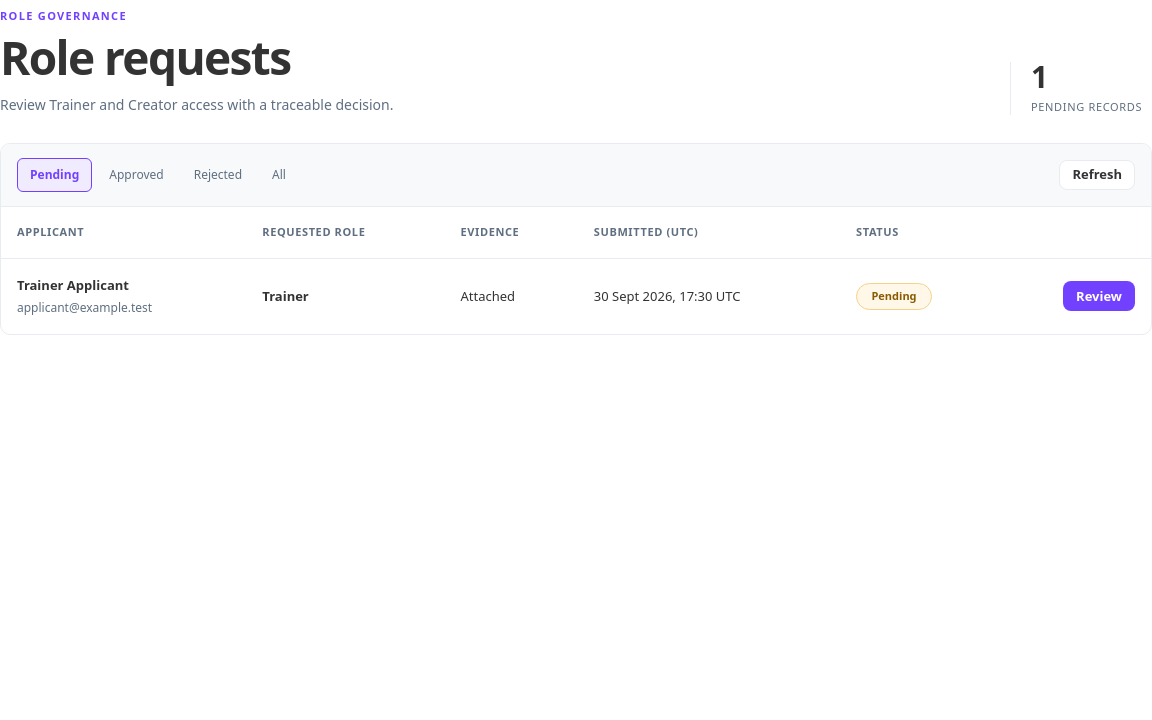
awaits a role download, prevents repeat requests and reports only browser download startup
Click the button "Review" at (1099, 296), box [1063, 281, 1135, 311]
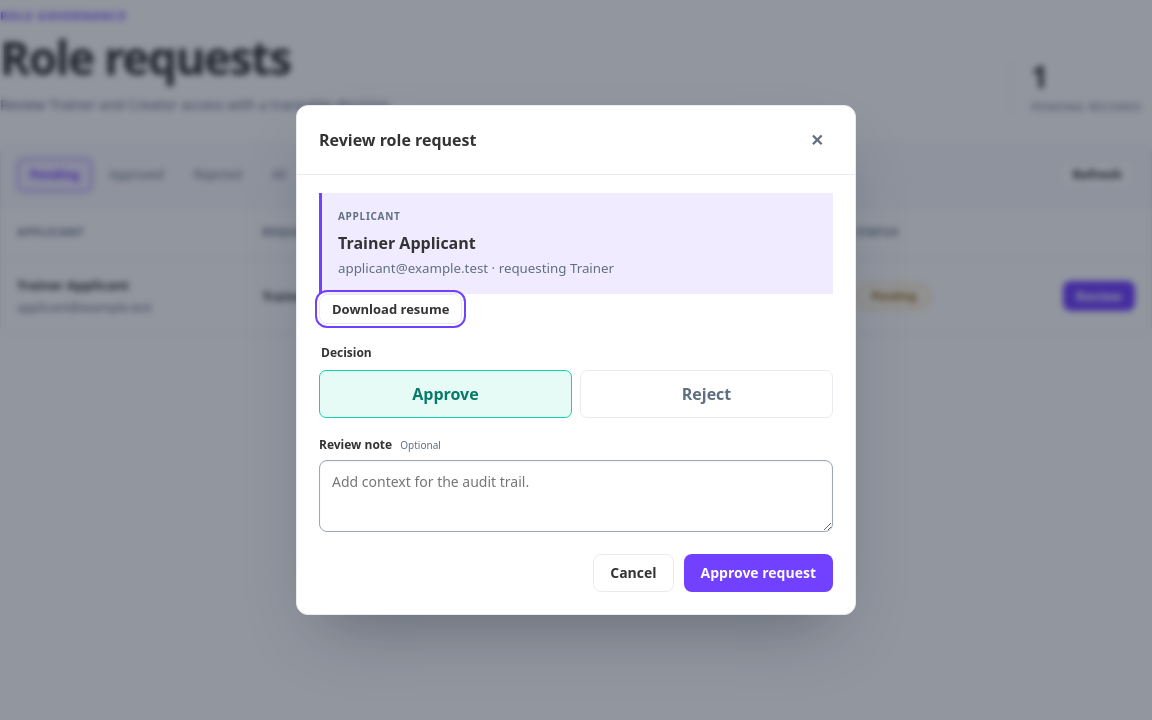
Click the button "Download resume" at (391, 310), box [319, 294, 462, 324]
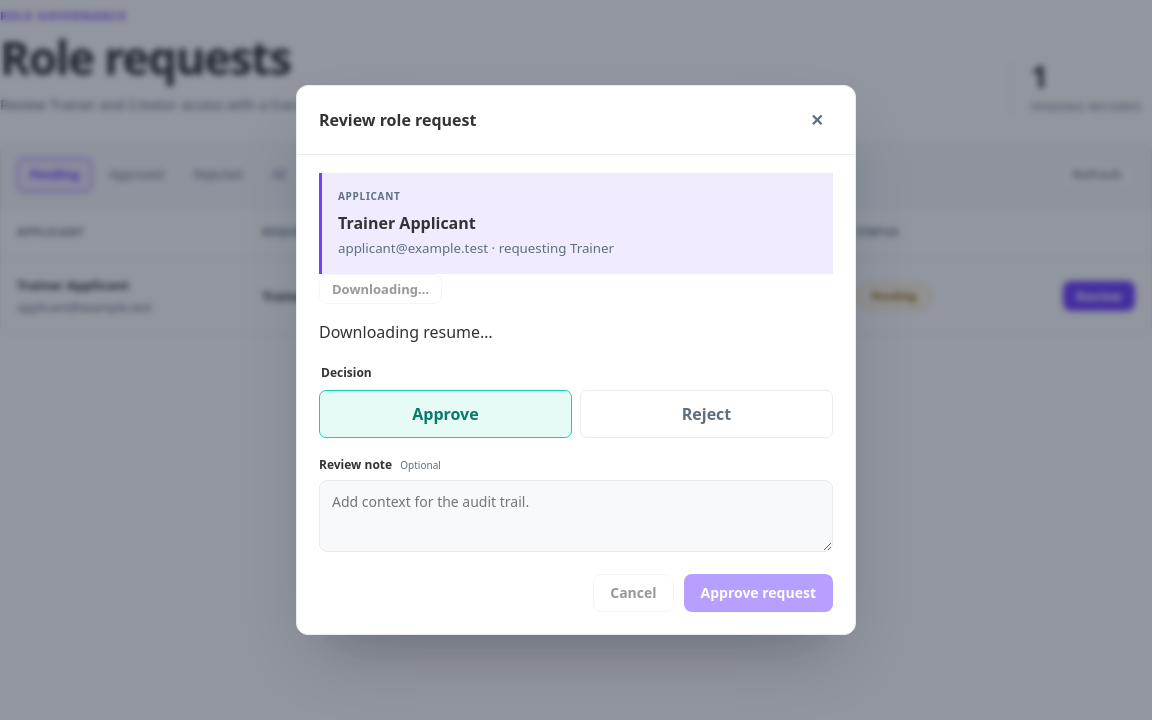
Click the button named "Download resume" at (380, 290), box [319, 274, 442, 304]
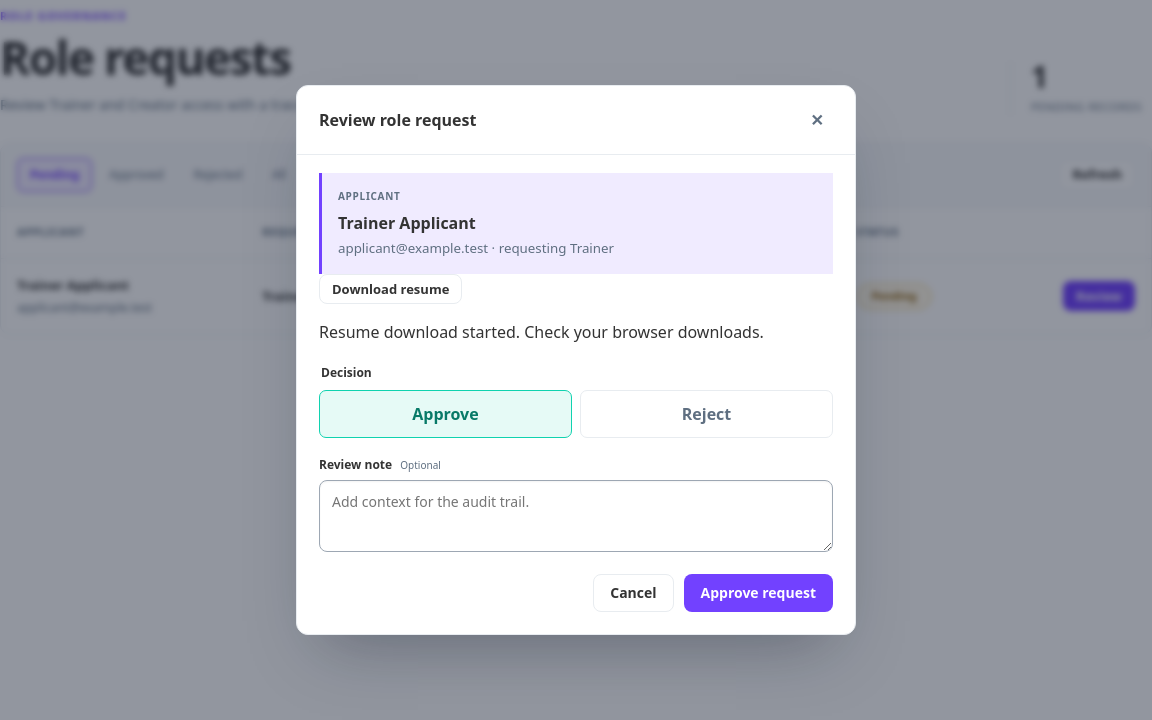
Expected: the text "Resume download started. Check your browser downloads." is shown, [319, 320, 833, 344]
